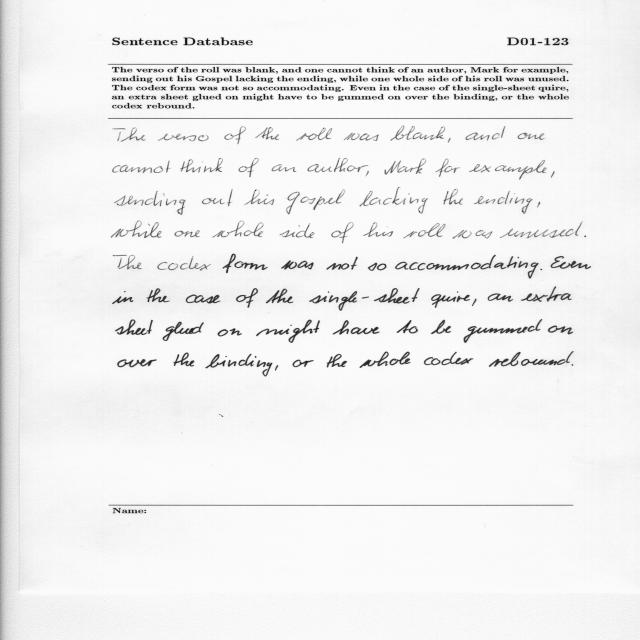word: (395, 255, 539, 279), (309, 288, 420, 311), (464, 319, 542, 343), (359, 188, 428, 214), (115, 191, 186, 215), (469, 160, 547, 180), (206, 354, 273, 377), (286, 190, 345, 215), (256, 320, 320, 343), (500, 222, 583, 239), (489, 351, 574, 367), (474, 191, 533, 214), (212, 221, 264, 238), (111, 221, 162, 238), (223, 254, 268, 273), (308, 158, 369, 172), (390, 126, 445, 141), (360, 352, 411, 368), (163, 322, 204, 341), (521, 287, 572, 302), (333, 320, 380, 335), (113, 161, 171, 173), (158, 258, 211, 271), (385, 159, 427, 175), (431, 291, 470, 308), (180, 158, 223, 173), (424, 352, 473, 365), (404, 223, 446, 238), (115, 319, 153, 335), (466, 126, 506, 141), (280, 223, 315, 238), (551, 256, 591, 269), (202, 189, 232, 206), (331, 222, 354, 243), (296, 128, 332, 141), (435, 159, 460, 177), (244, 190, 274, 205), (363, 222, 393, 237), (114, 128, 146, 142), (236, 288, 258, 308), (326, 257, 358, 270), (158, 134, 209, 142), (113, 255, 142, 269), (224, 126, 246, 144), (239, 158, 259, 177), (266, 289, 293, 303), (453, 230, 493, 239), (147, 288, 170, 303), (443, 189, 463, 205), (186, 295, 221, 304), (255, 127, 279, 140), (118, 359, 157, 367), (281, 261, 314, 270), (397, 320, 418, 334), (174, 353, 195, 367), (344, 133, 379, 141), (431, 320, 451, 334), (113, 291, 134, 304), (327, 354, 347, 367), (488, 293, 513, 302), (548, 326, 573, 335), (272, 164, 297, 172), (218, 329, 242, 337), (518, 133, 545, 140), (174, 230, 200, 237), (368, 262, 387, 271), (293, 360, 314, 367), (472, 299, 477, 306), (551, 171, 554, 178), (365, 171, 369, 176), (537, 202, 540, 208), (275, 365, 278, 371), (448, 138, 450, 143), (585, 236, 587, 238), (572, 364, 574, 366), (541, 269, 543, 270)
